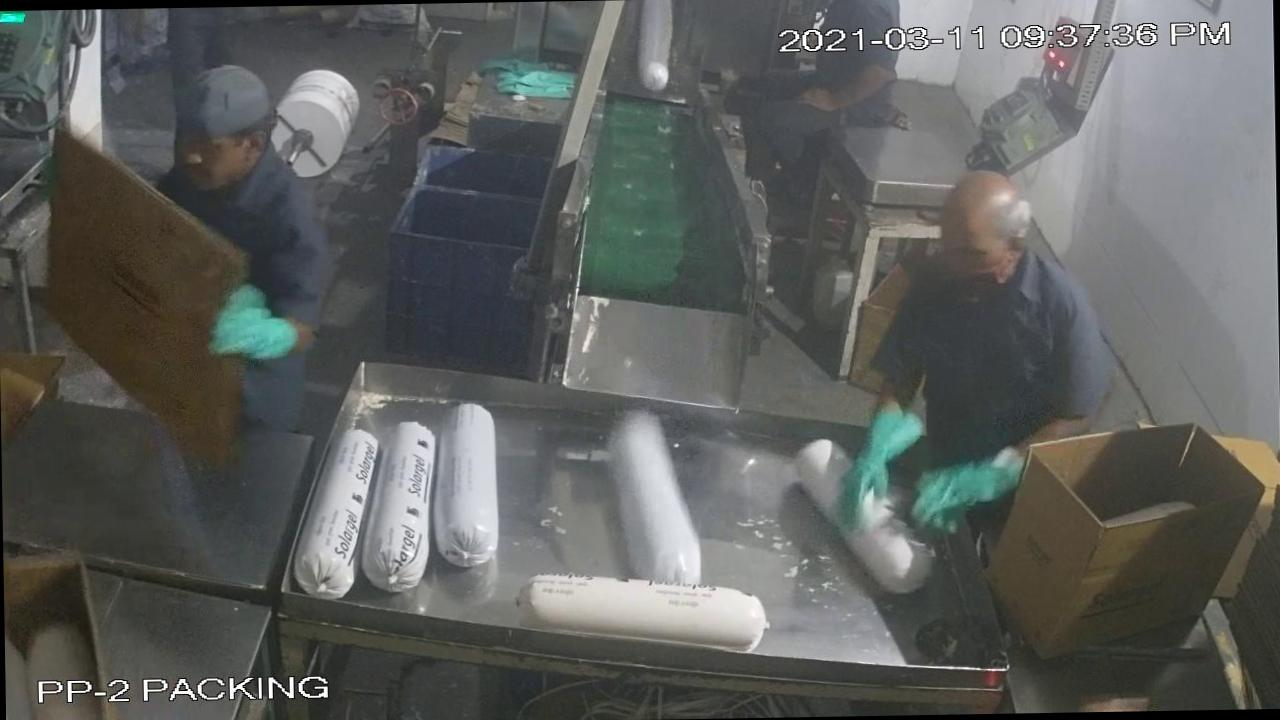Gloves: (196, 274, 306, 386)
No-gloves: (813, 398, 923, 524), (898, 450, 1022, 540), (790, 68, 902, 126)
